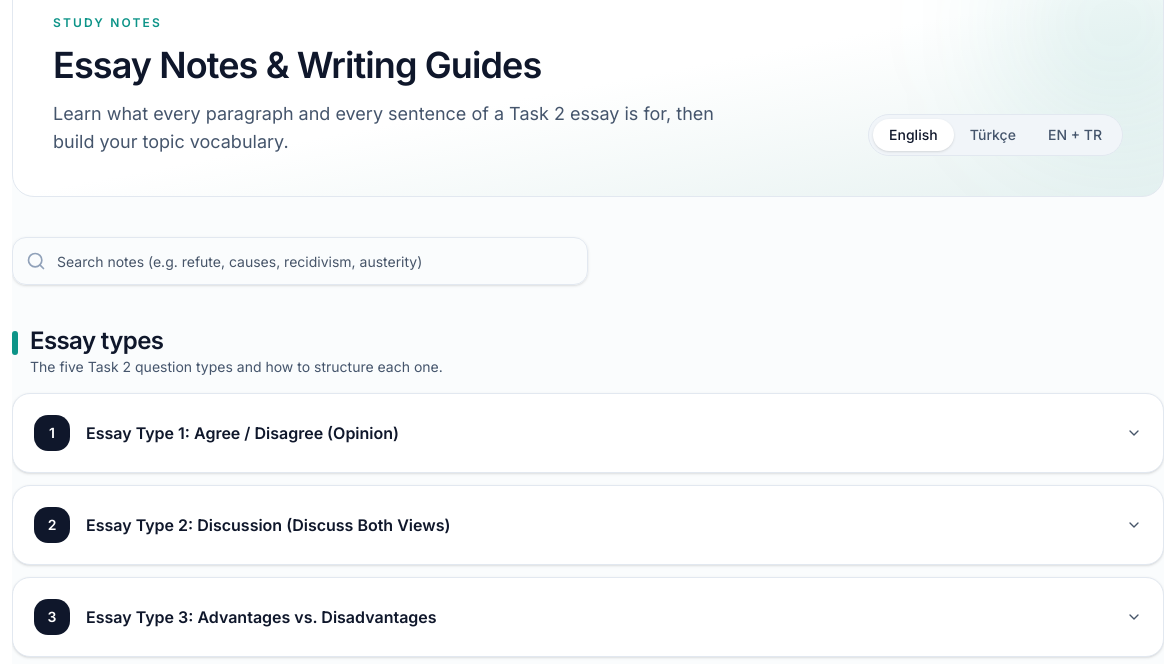
it: NotesBrowser language switch › translates topic modules: definitions in Turkish, vocabulary words in English
The width and height of the screenshot is (1164, 664).
Click the button "Türkçe". click: (993, 135)
box: x1=954 y1=119 x2=1032 y2=151
(page scrolled)
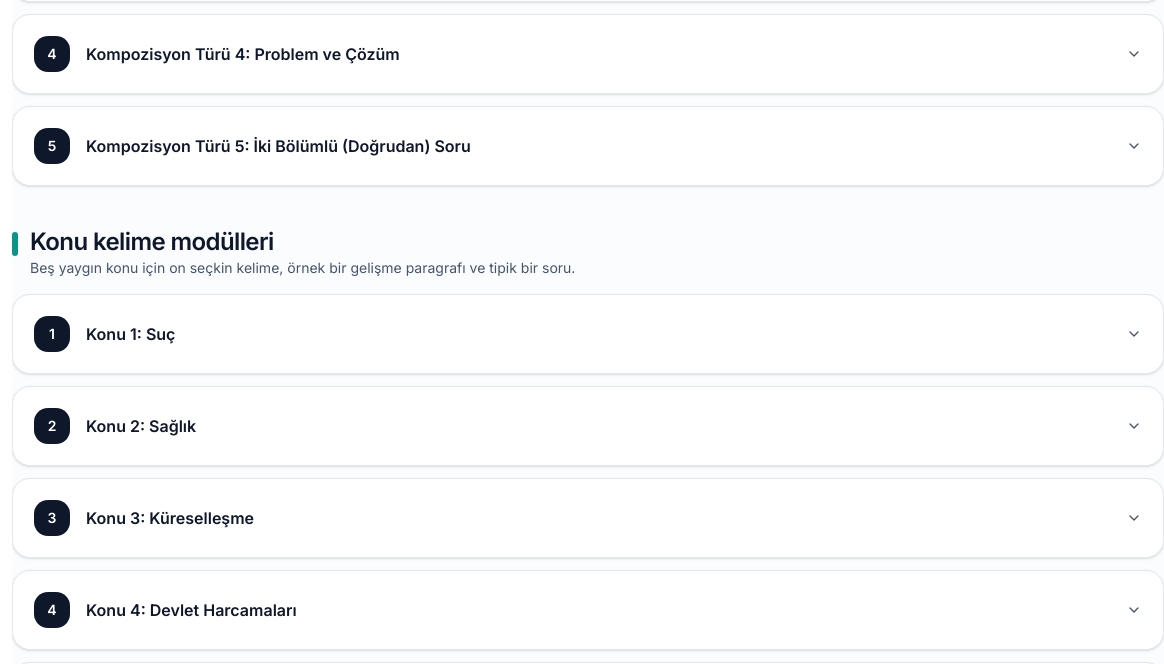
Click the button "1 Konu 1: Suç". click: (52, 334)
box: x1=33 y1=295 x2=1143 y2=373
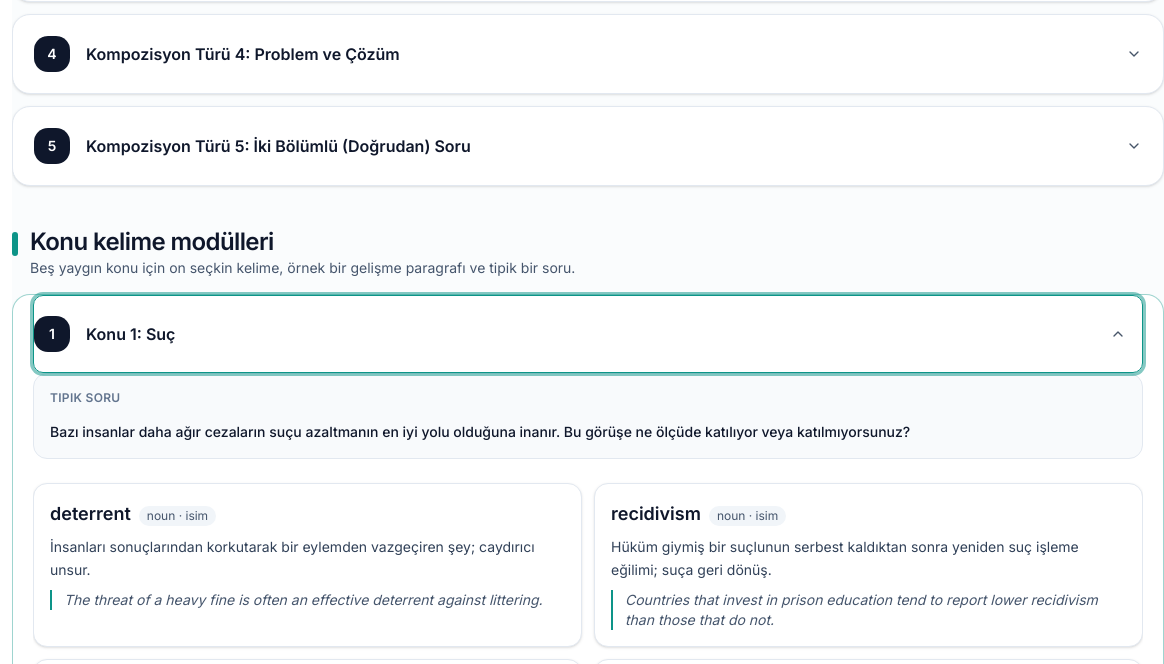
Now the text "recidivism" is shown, box x1=611 y1=500 x2=701 y2=528
Now the text "Hüküm giymiş bir suçlunun serbest kaldıktan sonra yeniden suç işleme eğilimi" is shown, box x1=611 y1=538 x2=1079 y2=578
